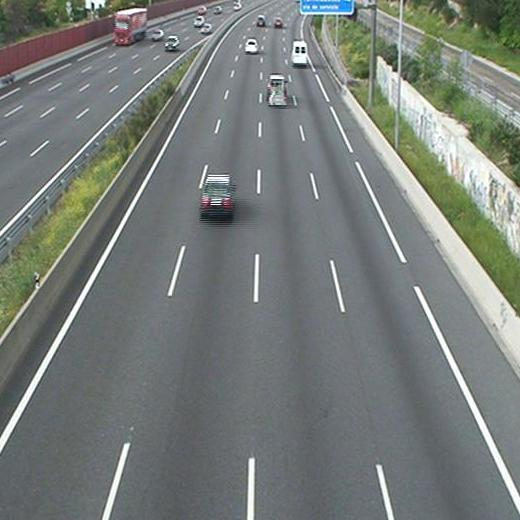car: (200, 176, 233, 213), (267, 74, 287, 96), (245, 40, 258, 53), (256, 16, 266, 27), (274, 19, 283, 27)
van: (291, 42, 308, 64)
